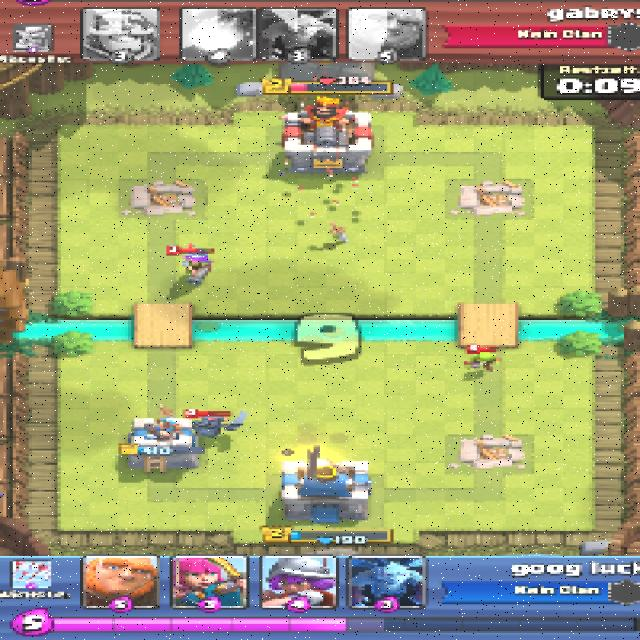Enemy-Goblin: (461, 348, 504, 373)
Enemy-MiniPEKKA: (188, 409, 248, 437)
Enemy-Musketeer: (176, 249, 211, 283)
